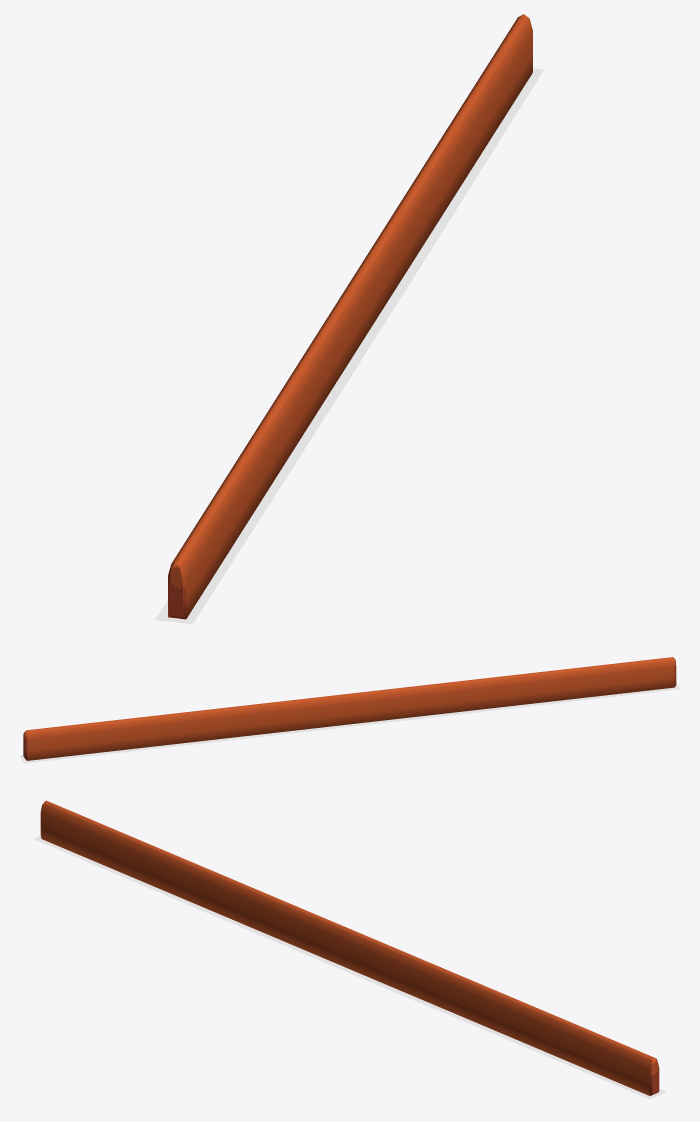
The model's file is NormalContent.fbx.
3 renders of one model, top to bottom at view 1: azimuth 30°, elevation 25°; view 2: azimuth 150°, elevation 25°; view 3: azimuth 270°, elevation 25°, orthographic. The views are drawn at different scales.
Parts seen in each view (by area): view 1: BasicObstacle, Shadow; view 2: BasicObstacle, Shadow; view 3: BasicObstacle, Shadow.
Part boxes in pixels (left/top/right/bottom): BasicObstacle: left=168, top=14, right=532, bottom=619; Shadow: left=155, top=68, right=543, bottom=624; BasicObstacle: left=23, top=657, right=676, bottom=760; Shadow: left=20, top=683, right=680, bottom=763; BasicObstacle: left=40, top=800, right=659, bottom=1095; Shadow: left=33, top=835, right=666, bottom=1099.
Bounding box in the file's own units: 6.53 × 0.3992 × 6.53.
